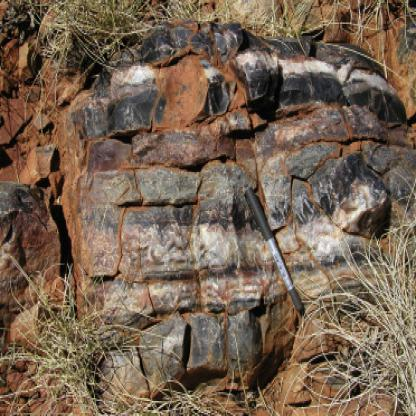Metamorphic_Quartize: (1, 151, 72, 275), (106, 45, 172, 141), (324, 150, 392, 232), (344, 55, 401, 144), (280, 44, 340, 118), (232, 298, 280, 386), (138, 305, 186, 389), (192, 300, 226, 376)
